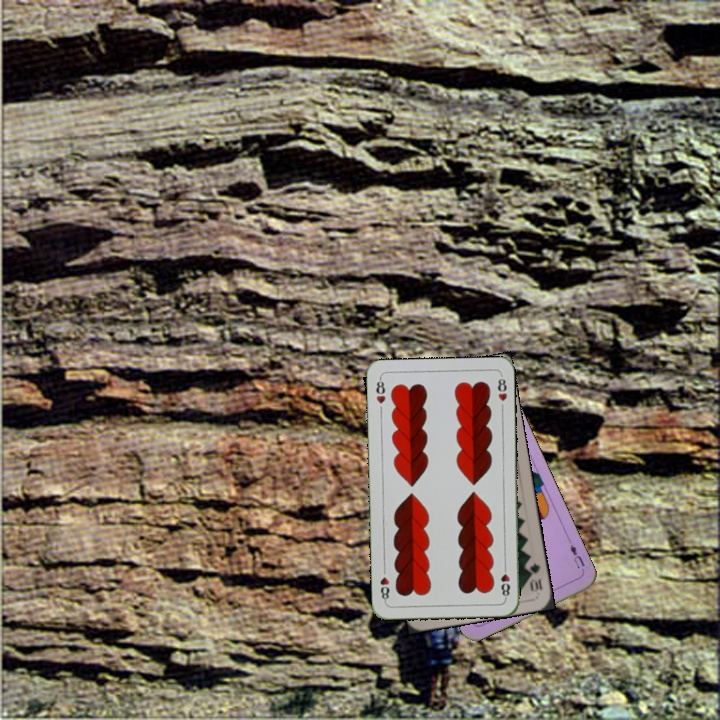EU: (566, 540, 587, 575)
G10: (523, 559, 545, 594)
H8: (497, 560, 512, 601), (372, 375, 388, 406)
